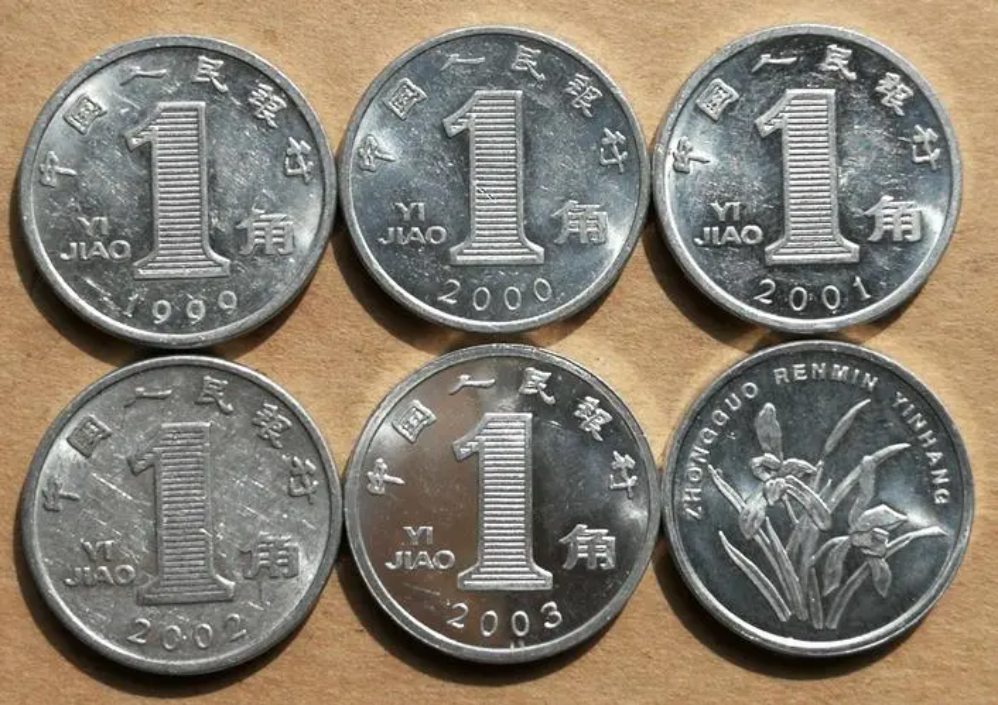coin: (11, 357, 343, 681), (9, 39, 336, 353), (345, 341, 657, 669), (662, 339, 970, 660), (649, 23, 963, 335), (338, 26, 646, 335)
